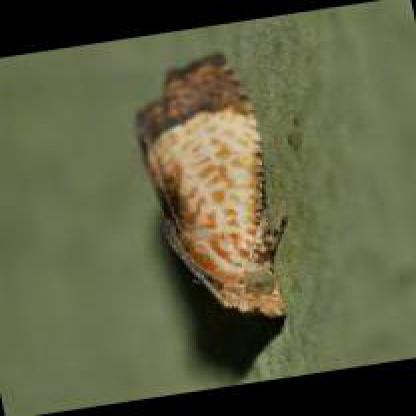Leaf Webber: (134, 55, 298, 322)
